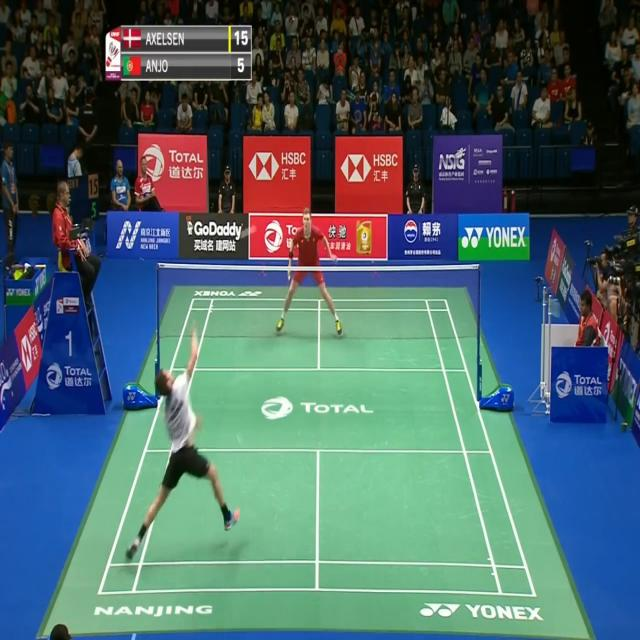Player1: (124, 324, 240, 564)
Player2: (275, 207, 347, 334)
